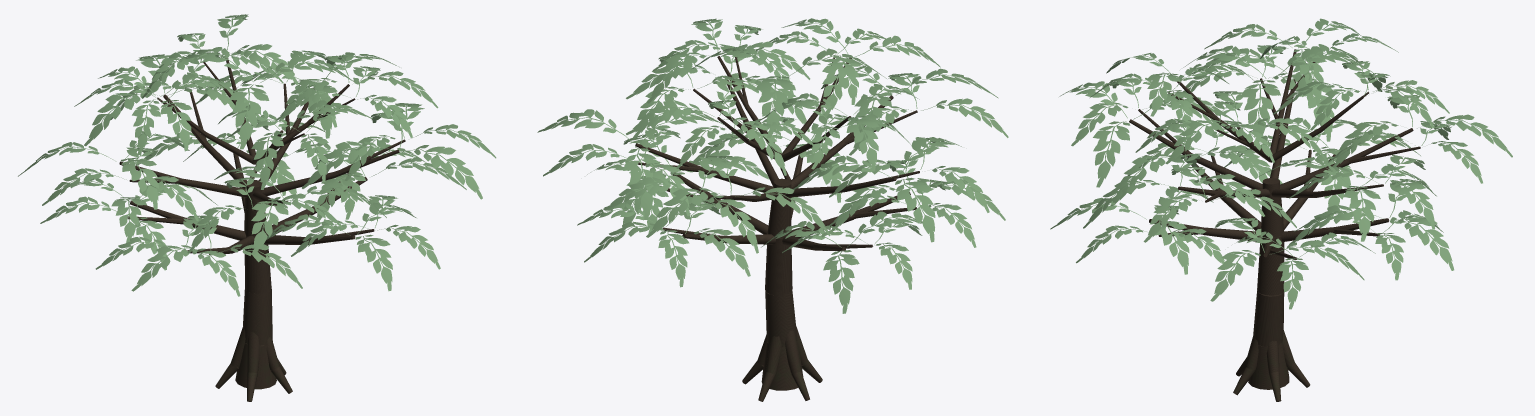
File: CTCC_ENV_CourtyardTree_A.fbx
3 renders of one model, left to right at view 1: azimuth 30°, elevation 25°; view 2: azimuth 150°, elevation 25°; view 3: azimuth 270°, elevation 25°, orthographic. The views are drawn at different scales.
Parts seen in each view (by area): view 1: CTCC_ENV_CourtyardTree_A_LOD0; view 2: CTCC_ENV_CourtyardTree_A_LOD0; view 3: CTCC_ENV_CourtyardTree_A_LOD0.
Boxes of the visible parts, box(x1,y1,x2,y2) form: CTCC_ENV_CourtyardTree_A_LOD0: box(18, 14, 496, 401); CTCC_ENV_CourtyardTree_A_LOD0: box(537, 18, 1008, 401); CTCC_ENV_CourtyardTree_A_LOD0: box(1050, 18, 1512, 401).
Size of what is drawn, in the model's own units: 7.65 by 5.76 by 7.69.
